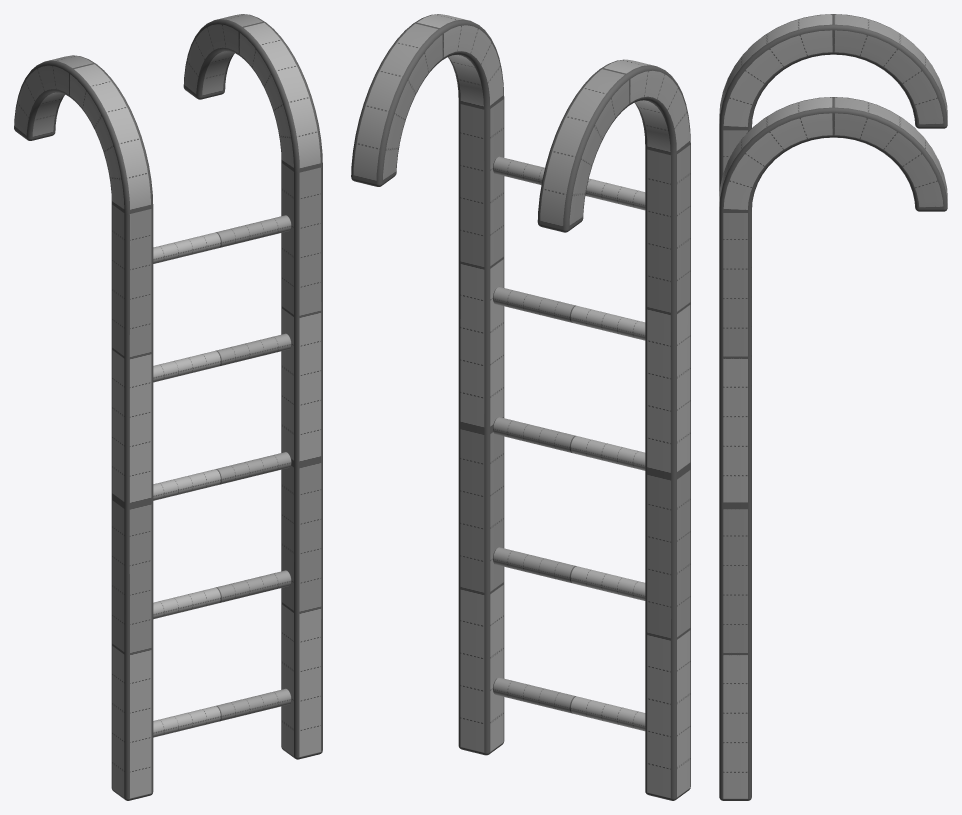
The model's file is Ladder0x2x0handle.fbx.
3 views of the same model, side by side, from view 1: azimuth 30°, elevation 25°; view 2: azimuth 150°, elevation 25°; view 3: azimuth 270°, elevation 25° (orthographic). The views are drawn at different scales.
Visible parts, largest first — view 1: Ladder0x2x0handle; view 2: Ladder0x2x0handle; view 3: Ladder0x2x0handle.
Boxes of the visible parts, <box> form: Ladder0x2x0handle: <box>14,14,322,800</box>; Ladder0x2x0handle: <box>351,14,690,800</box>; Ladder0x2x0handle: <box>719,14,947,800</box>.
Size of the model in its own units: 70 by 234 by 69.89.
